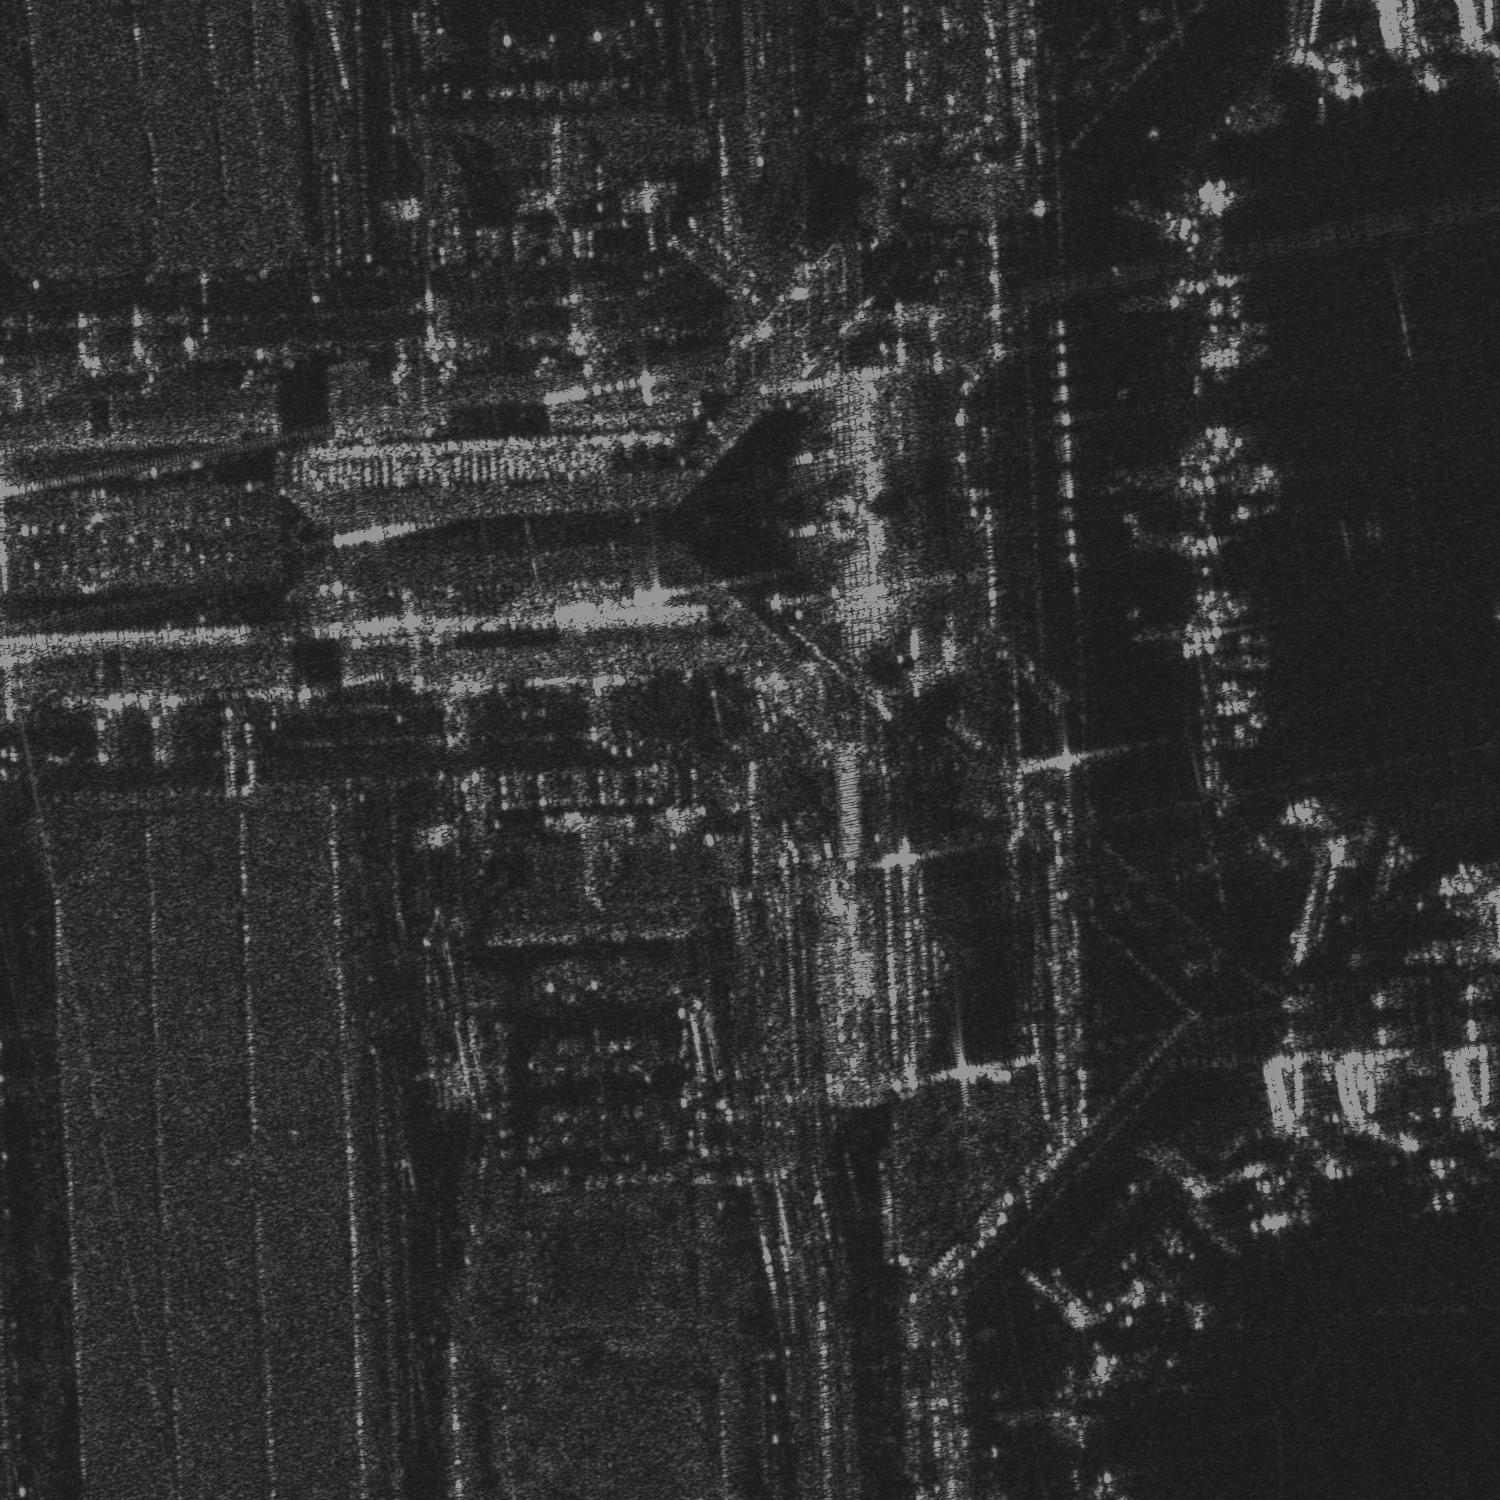A220: (1402, 1139, 1499, 1221)
